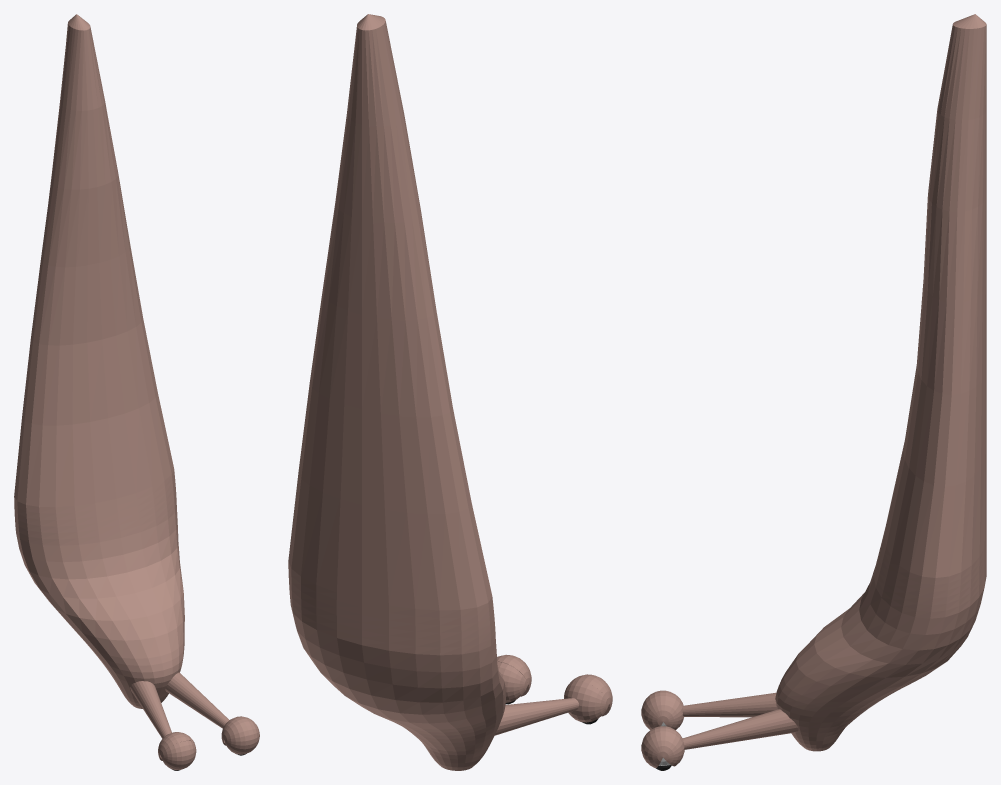
The model's file is SLUG.glb.
3 views of the same model, side by side, from view 1: azimuth 30°, elevation 25°; view 2: azimuth 150°, elevation 25°; view 3: azimuth 270°, elevation 25° (orthographic). The views are drawn at different scales.
Parts seen in each view (by area): view 1: _0; view 2: _0; view 3: _0.
Boxes of the visible parts, left/top/right/bottom form: _0: left=14, top=14, right=259, bottom=770; _0: left=288, top=14, right=612, bottom=770; _0: left=641, top=14, right=986, bottom=770.
Bounding box in the file's own units: 1.99 × 8 × 3.38.
